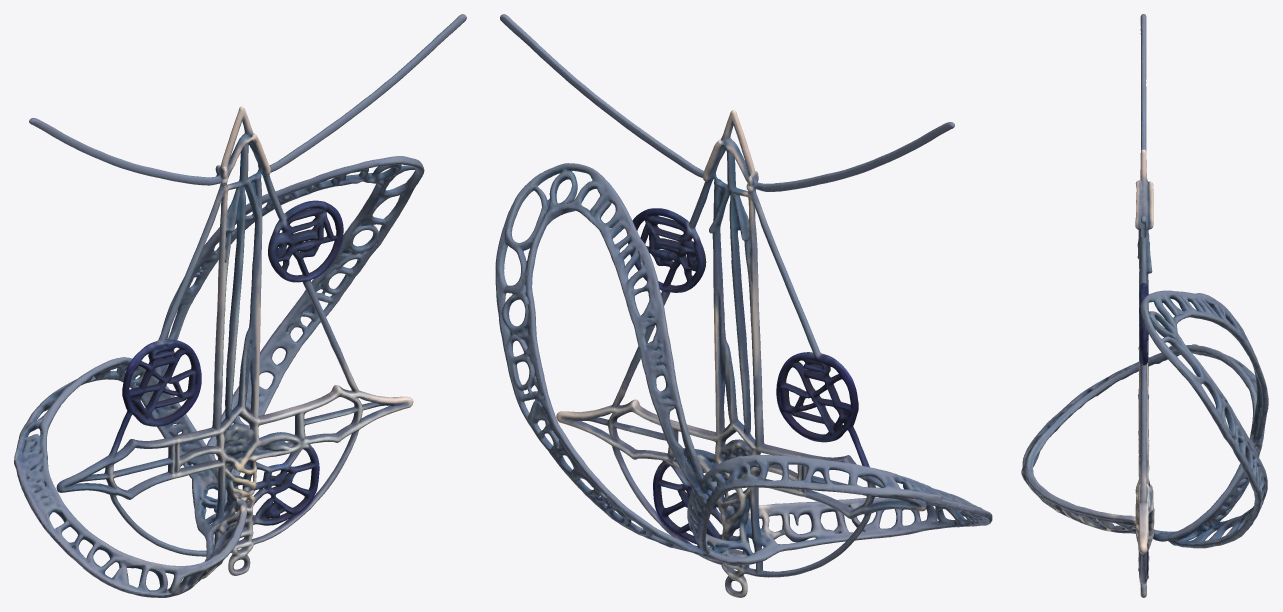
The picture shows the model from 3 angles, left to right: view 1: azimuth 30°, elevation 25°; view 2: azimuth 150°, elevation 25°; view 3: azimuth 270°, elevation 25°; orthographic projection. The views are drawn at different scales.
Parts seen in each view (by area): view 1: world; view 2: world; view 3: world.
Boxes of the visible parts, x1,y1,x2,y2 form: world: (14,14,466,597); world: (495,14,992,597); world: (1021,14,1268,597).
Size of the model in its own units: 0.2 by 0.2174 by 0.1004.
1 material, 1 textured.
